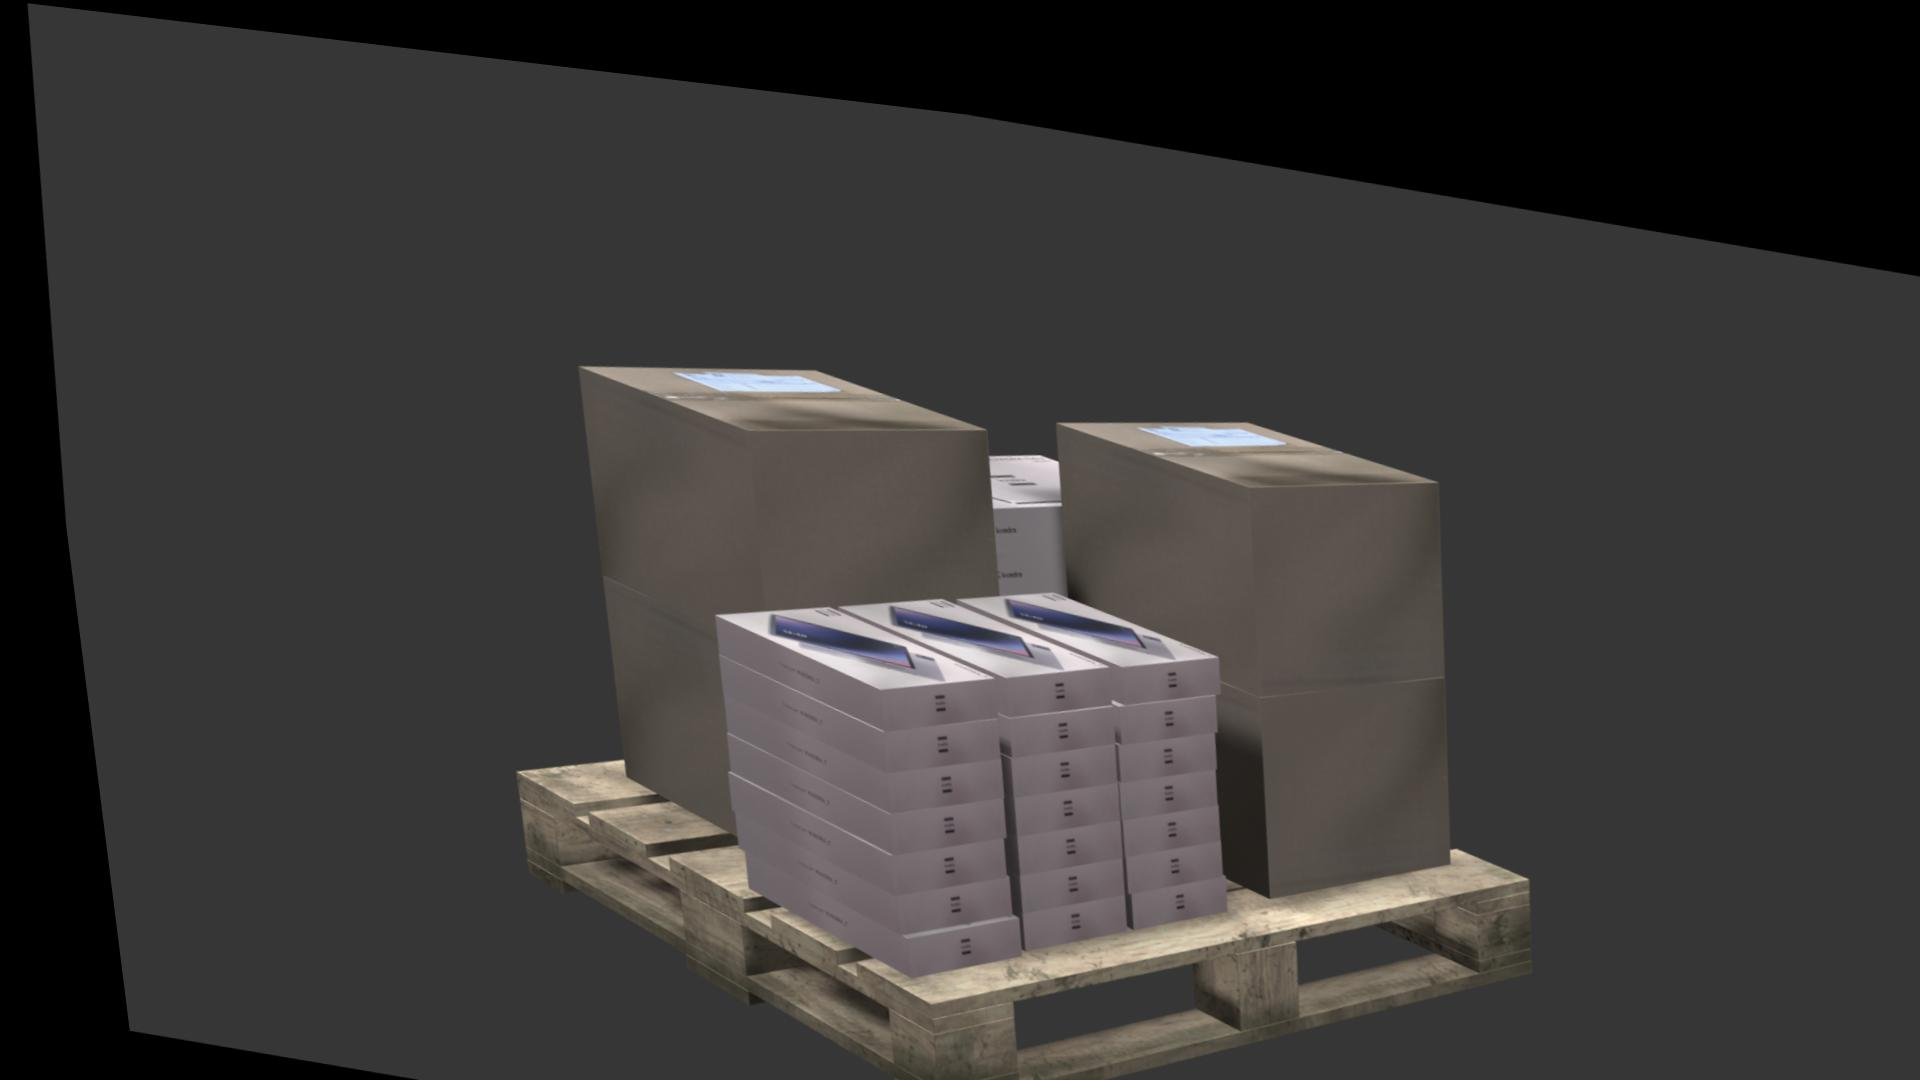group_box_left: (570, 353, 985, 611), (1048, 398, 1431, 667), (1199, 644, 1432, 869), (589, 563, 716, 820)
group_box_top: (570, 348, 977, 413), (1050, 392, 1429, 456)
laptop_left: (982, 481, 1052, 530), (985, 525, 1055, 572)
laptop_top: (980, 430, 1051, 485)
palet: (496, 746, 1511, 1080)
tablet_left: (724, 835, 1000, 957), (709, 757, 986, 876), (716, 796, 989, 915), (709, 717, 985, 835), (707, 678, 986, 793), (704, 640, 982, 752), (702, 601, 981, 709), (823, 588, 1096, 694), (943, 578, 1207, 678), (988, 833, 1104, 890), (992, 870, 1105, 928), (988, 795, 1102, 852), (984, 719, 1098, 774), (988, 758, 1101, 814), (982, 680, 1098, 735), (1105, 848, 1207, 903), (1104, 812, 1203, 868), (1097, 667, 1201, 719), (1102, 777, 1201, 831), (1098, 704, 1200, 756), (1100, 741, 1199, 794)
tablet_top: (704, 588, 977, 669), (825, 576, 1093, 654), (944, 568, 1203, 640)
